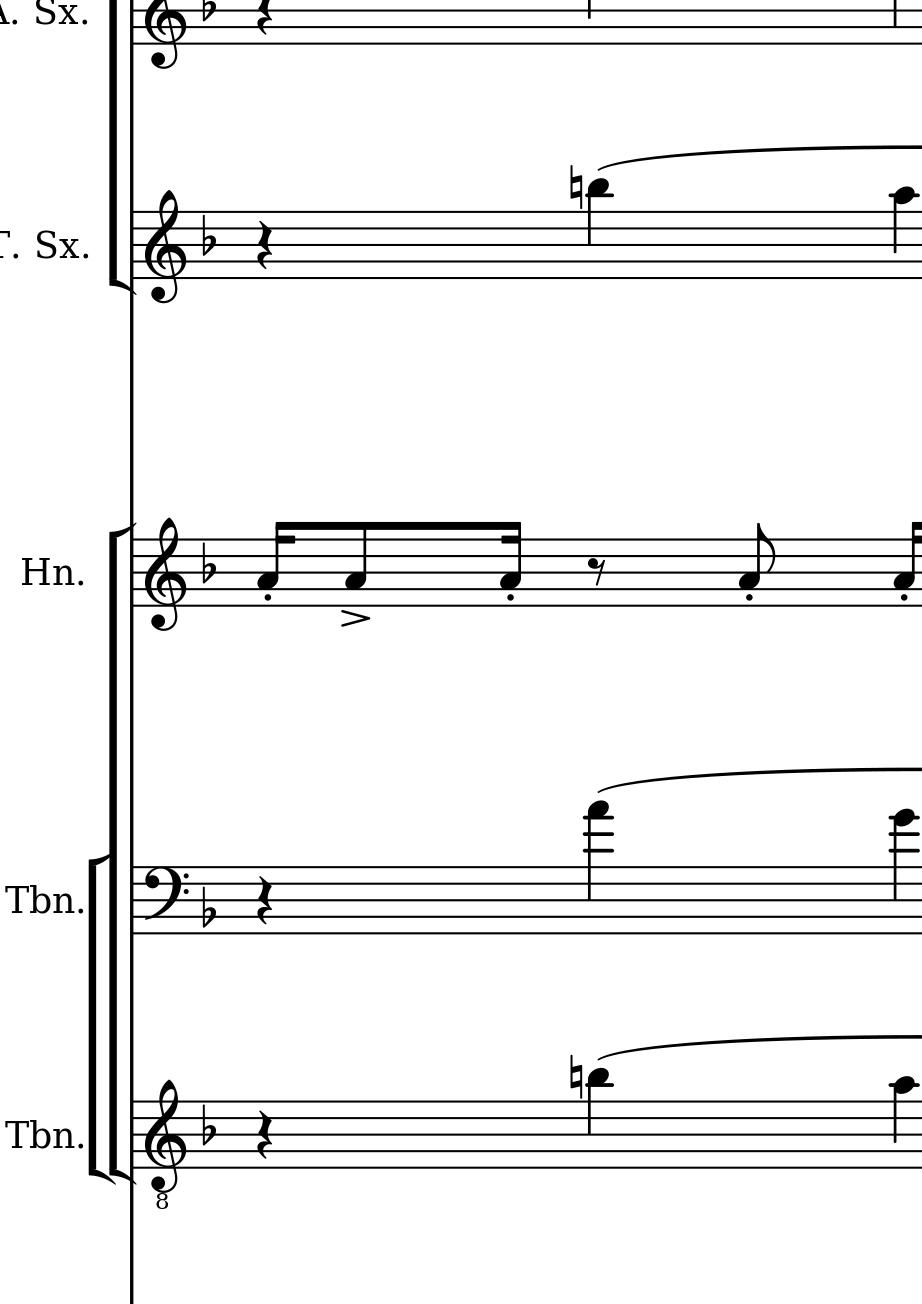16_3: (255, 518, 293, 605), (891, 518, 920, 608), (498, 519, 522, 607)
4_10: (889, 185, 919, 282), (889, 1074, 918, 1171)
4_11: (584, 1068, 611, 1172)
4_14: (889, 806, 915, 936)
4_15: (584, 799, 611, 937)
8_11: (584, 177, 611, 283)
8_3: (736, 521, 776, 608), (342, 520, 369, 608)
Accent_above: (338, 607, 372, 628)
Bracke: (104, 518, 136, 1193), (85, 852, 107, 1187)
Fclef: (142, 864, 190, 937)
Flat: (199, 211, 218, 258), (199, 1101, 217, 1148), (199, 539, 217, 584), (199, 883, 216, 930)
Gclef: (141, 517, 187, 634), (142, 189, 187, 306)
Hn: (21, 554, 77, 592)
Lower_Gclef: (143, 1079, 187, 1210)
Natural: (566, 1052, 584, 1102), (566, 163, 583, 212)
Rests4: (254, 218, 275, 271), (254, 874, 275, 927), (254, 1108, 274, 1161)
Rests8: (585, 556, 608, 588)
Single_barline: (124, 539, 143, 608), (124, 1100, 142, 1171), (123, 867, 142, 934), (124, 212, 142, 281)
Tbn: (1, 1112, 76, 1154), (1, 879, 75, 920)
